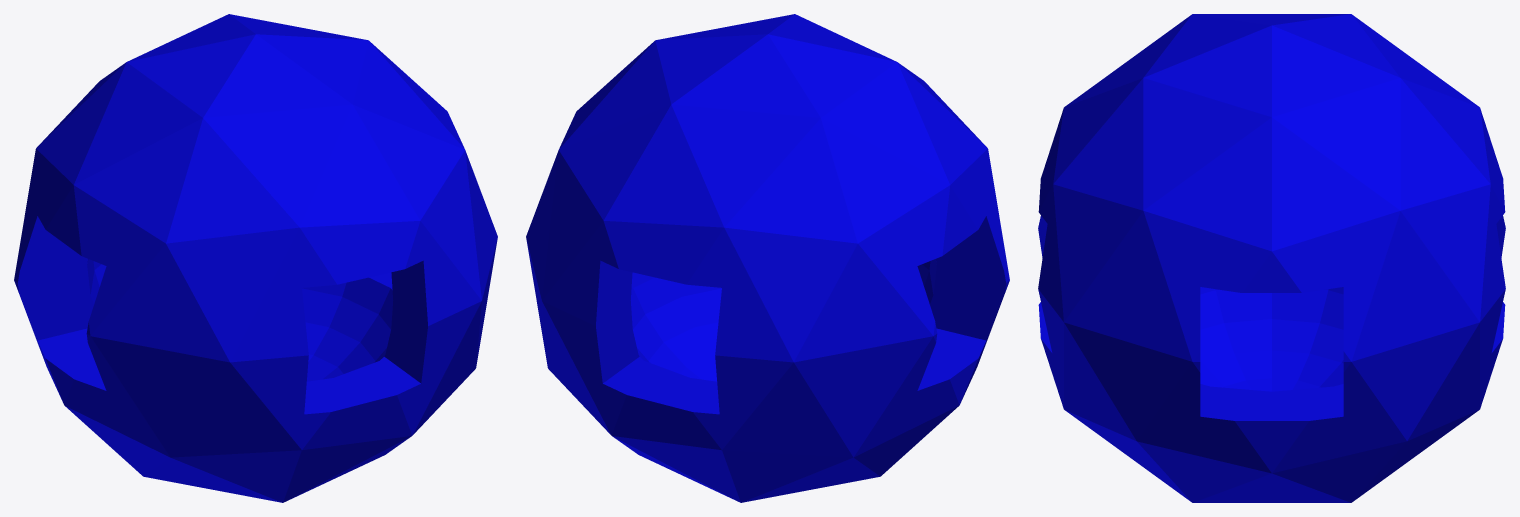
File: station01.fbx
The picture shows the model from 3 angles, left to right: view 1: azimuth 30°, elevation 25°; view 2: azimuth 150°, elevation 25°; view 3: azimuth 270°, elevation 25°; orthographic projection. The views are drawn at different scales.
Visible parts, largest first — view 1: MAIN; view 2: MAIN; view 3: MAIN.
Part boxes in pixels (x1,y1,x2,y2): MAIN: [14, 14, 497, 502]; MAIN: [526, 14, 1009, 502]; MAIN: [1038, 14, 1505, 502].
Bounding box in the file's own units: 12.1 × 12.73 × 11.57.
